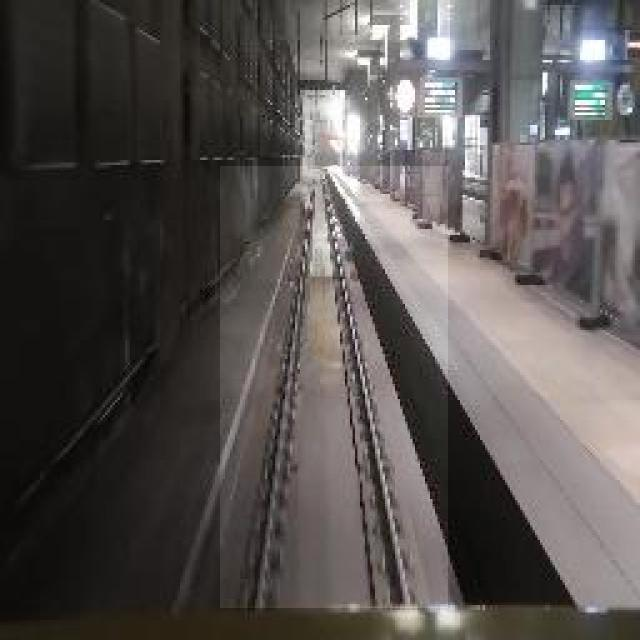rail: (221, 168, 449, 609)
